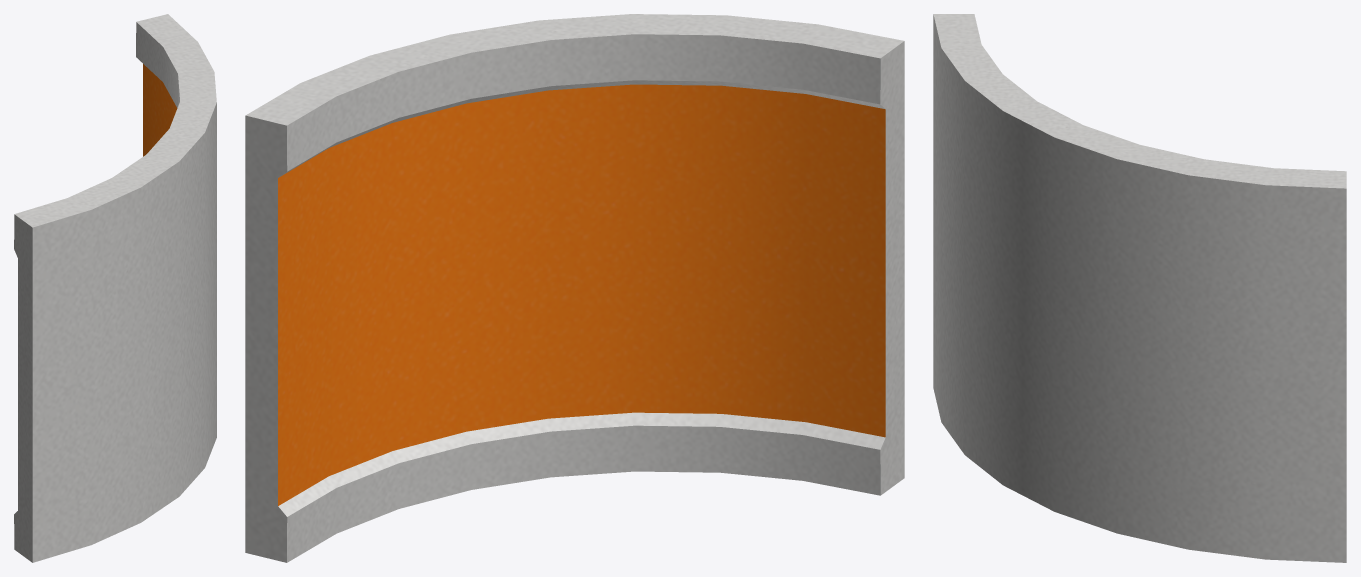
The model's file is Wall_1_Rounded_LOD0.fbx.
3 renders of one model, left to right at view 1: azimuth 30°, elevation 25°; view 2: azimuth 150°, elevation 25°; view 3: azimuth 270°, elevation 25°, orthographic. The views are drawn at different scales.
Parts seen in each view (by area): view 1: Wall_1_Rounded_LOD0; view 2: Wall_1_Rounded_LOD0; view 3: Wall_1_Rounded_LOD0.
Boxes of the visible parts, x1=… form: Wall_1_Rounded_LOD0: x1=14, y1=14, x2=216, y2=562; Wall_1_Rounded_LOD0: x1=245, y1=14, x2=904, y2=562; Wall_1_Rounded_LOD0: x1=933, y1=14, x2=1346, y2=562.
Bounding box in the file's own units: 200 × 200 × 200.
